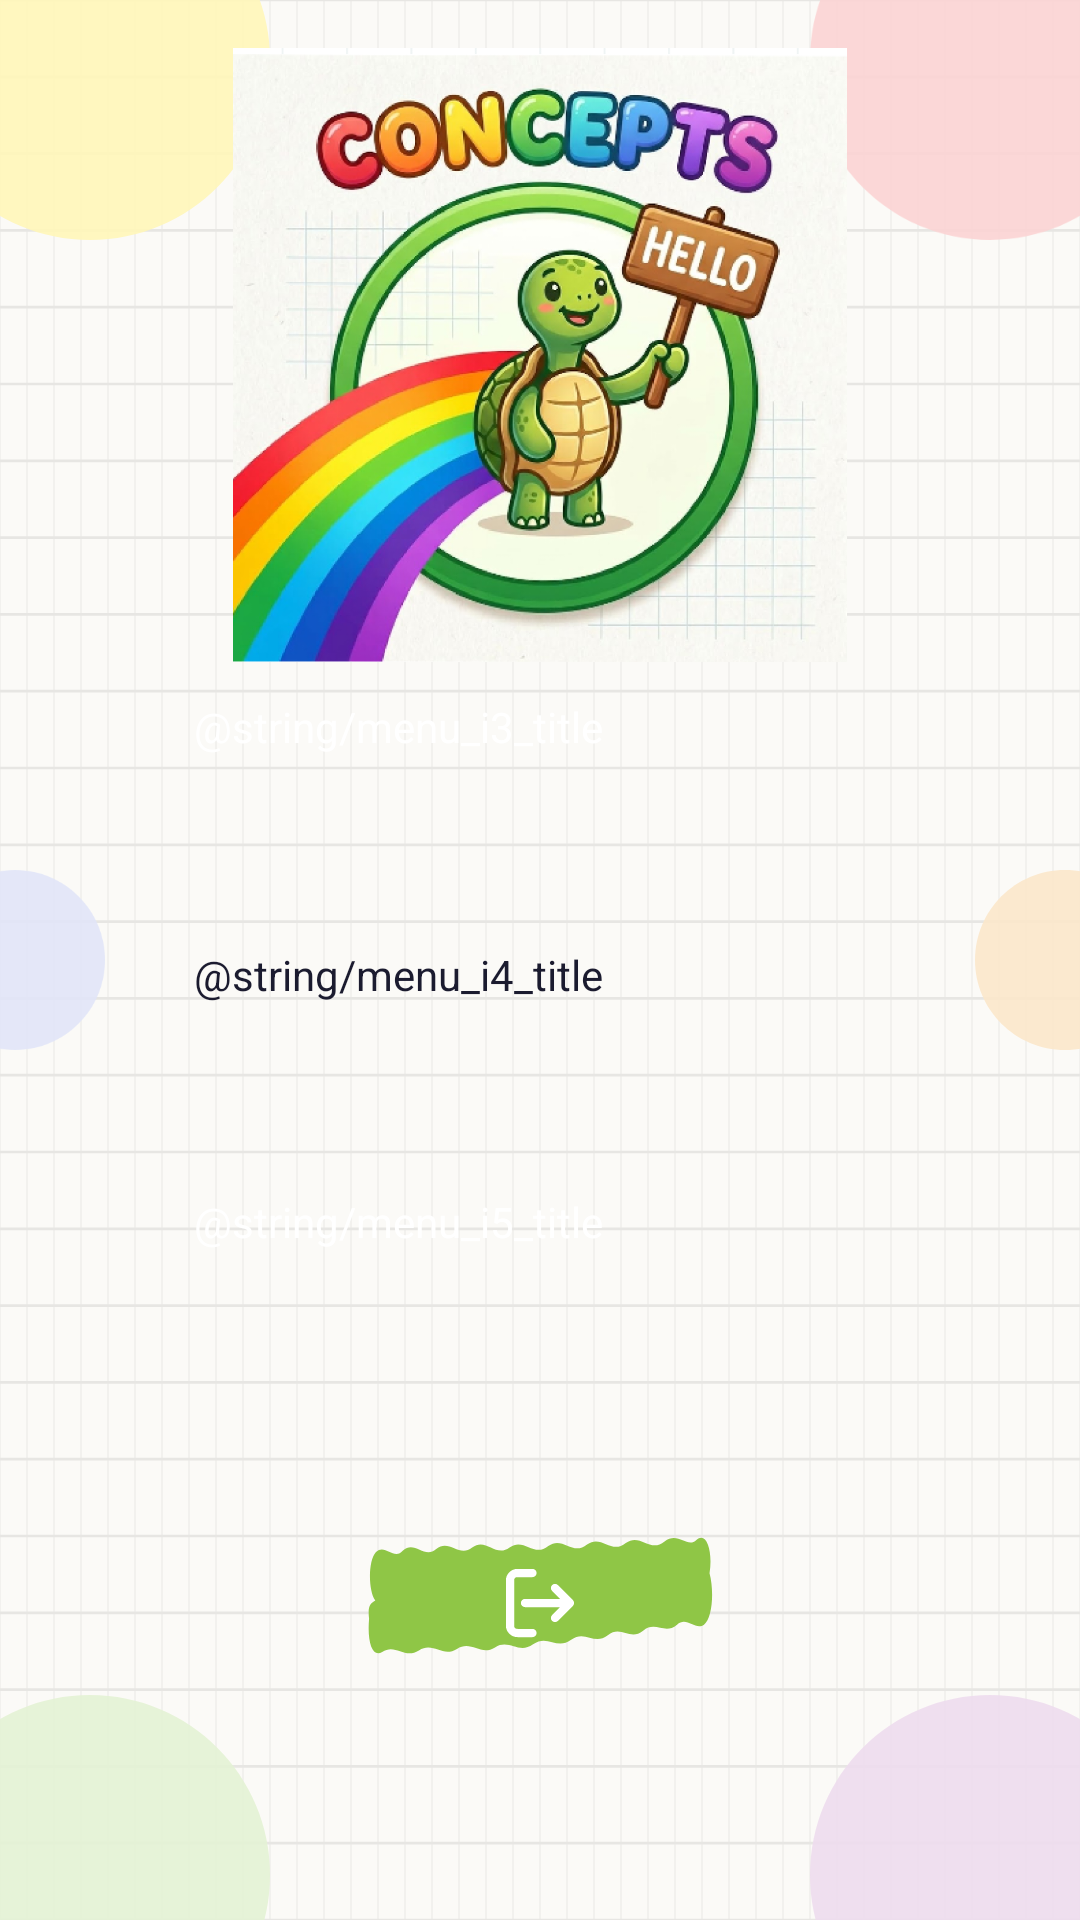

Screen size 1080w x 1920h. Icon name, then its center in pixels as (x,y):
arrow next: (540,1603)
